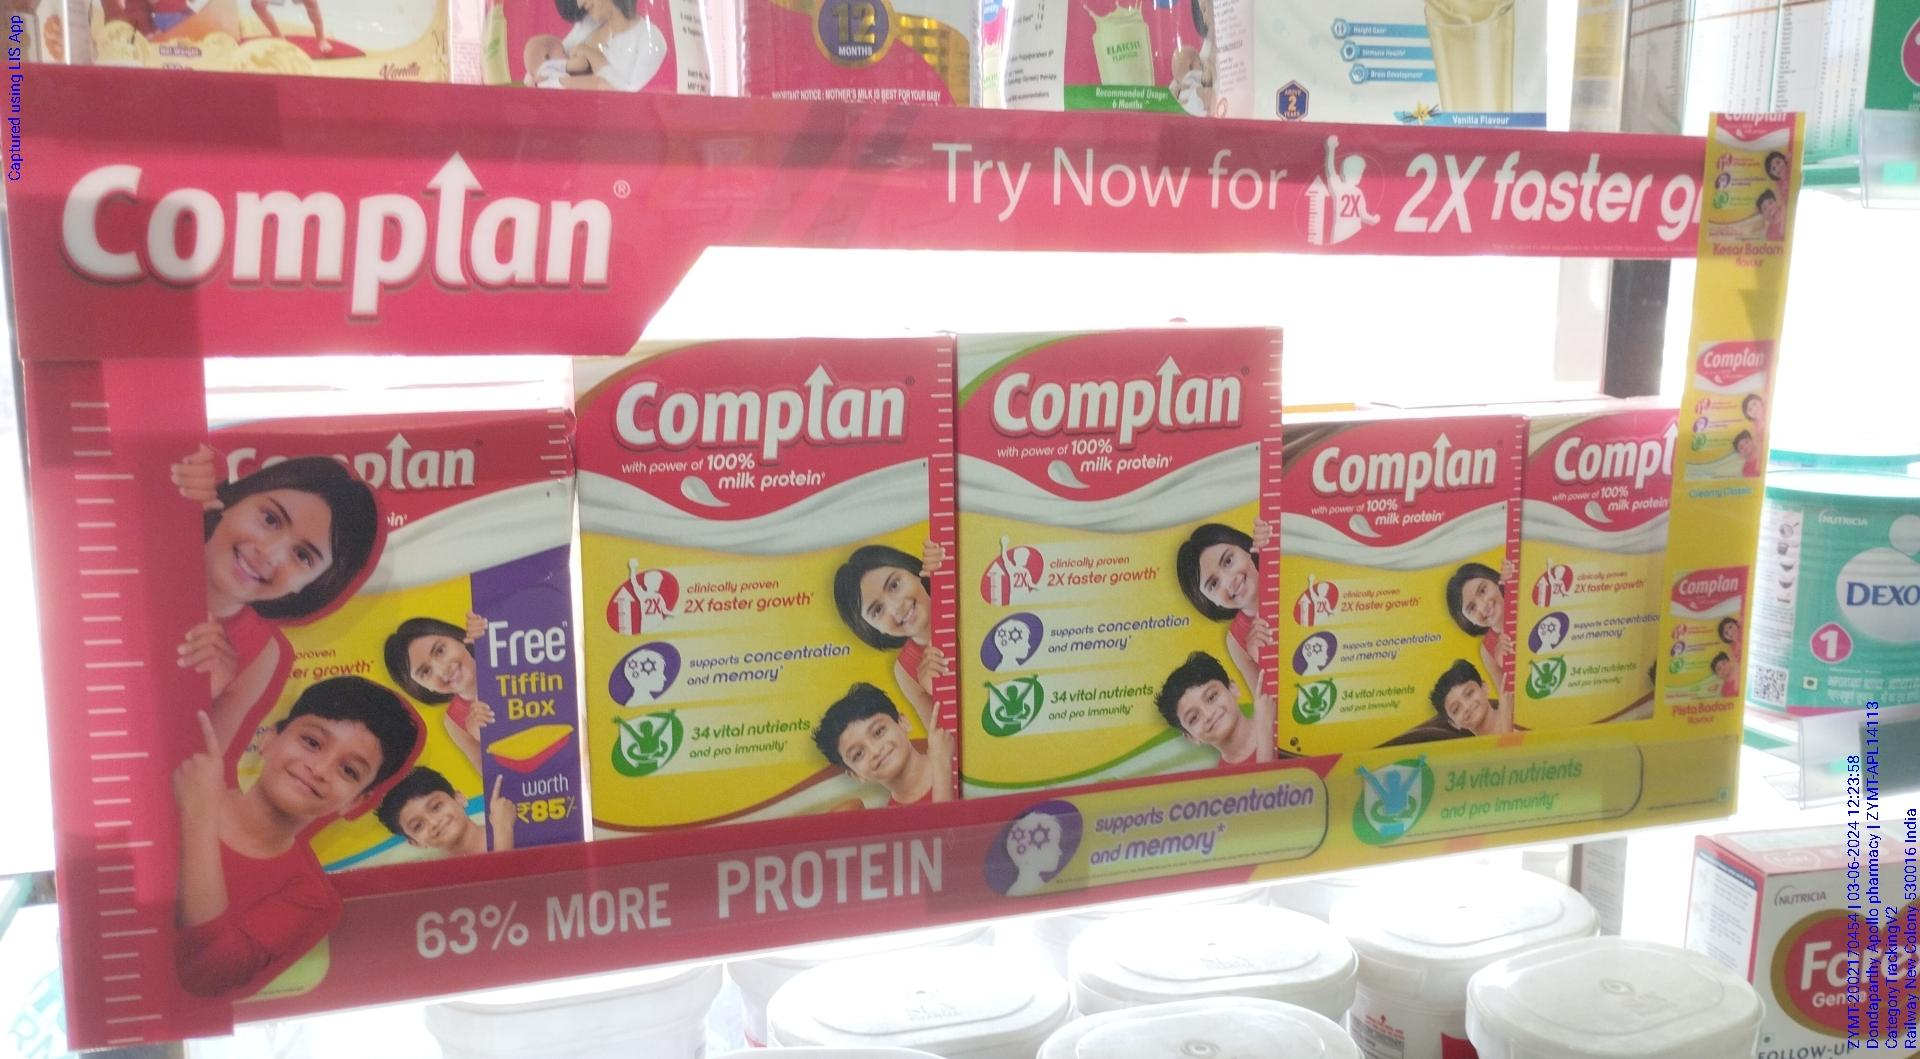COMPLAN_PISTA_BADAM_500_GMS_PACK: (952, 330, 1287, 779)
